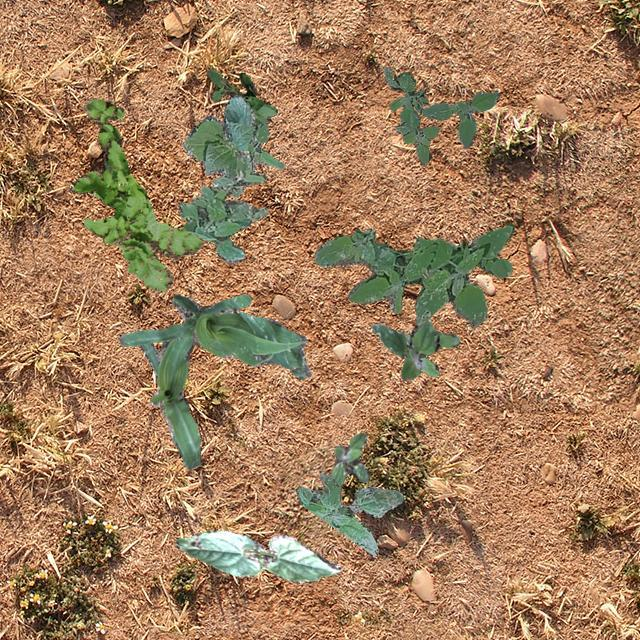crop: (118, 294, 310, 378), (138, 304, 210, 468), (182, 94, 284, 196), (173, 528, 340, 582)
weed: (70, 97, 202, 290), (314, 222, 512, 328), (382, 64, 498, 164), (178, 150, 268, 262), (296, 470, 402, 554), (370, 317, 458, 378), (206, 68, 276, 126), (330, 432, 368, 487)
